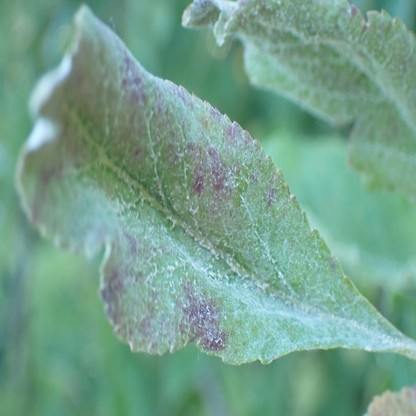powder: (14, 7, 392, 364), (182, 0, 414, 160), (365, 388, 416, 415)
